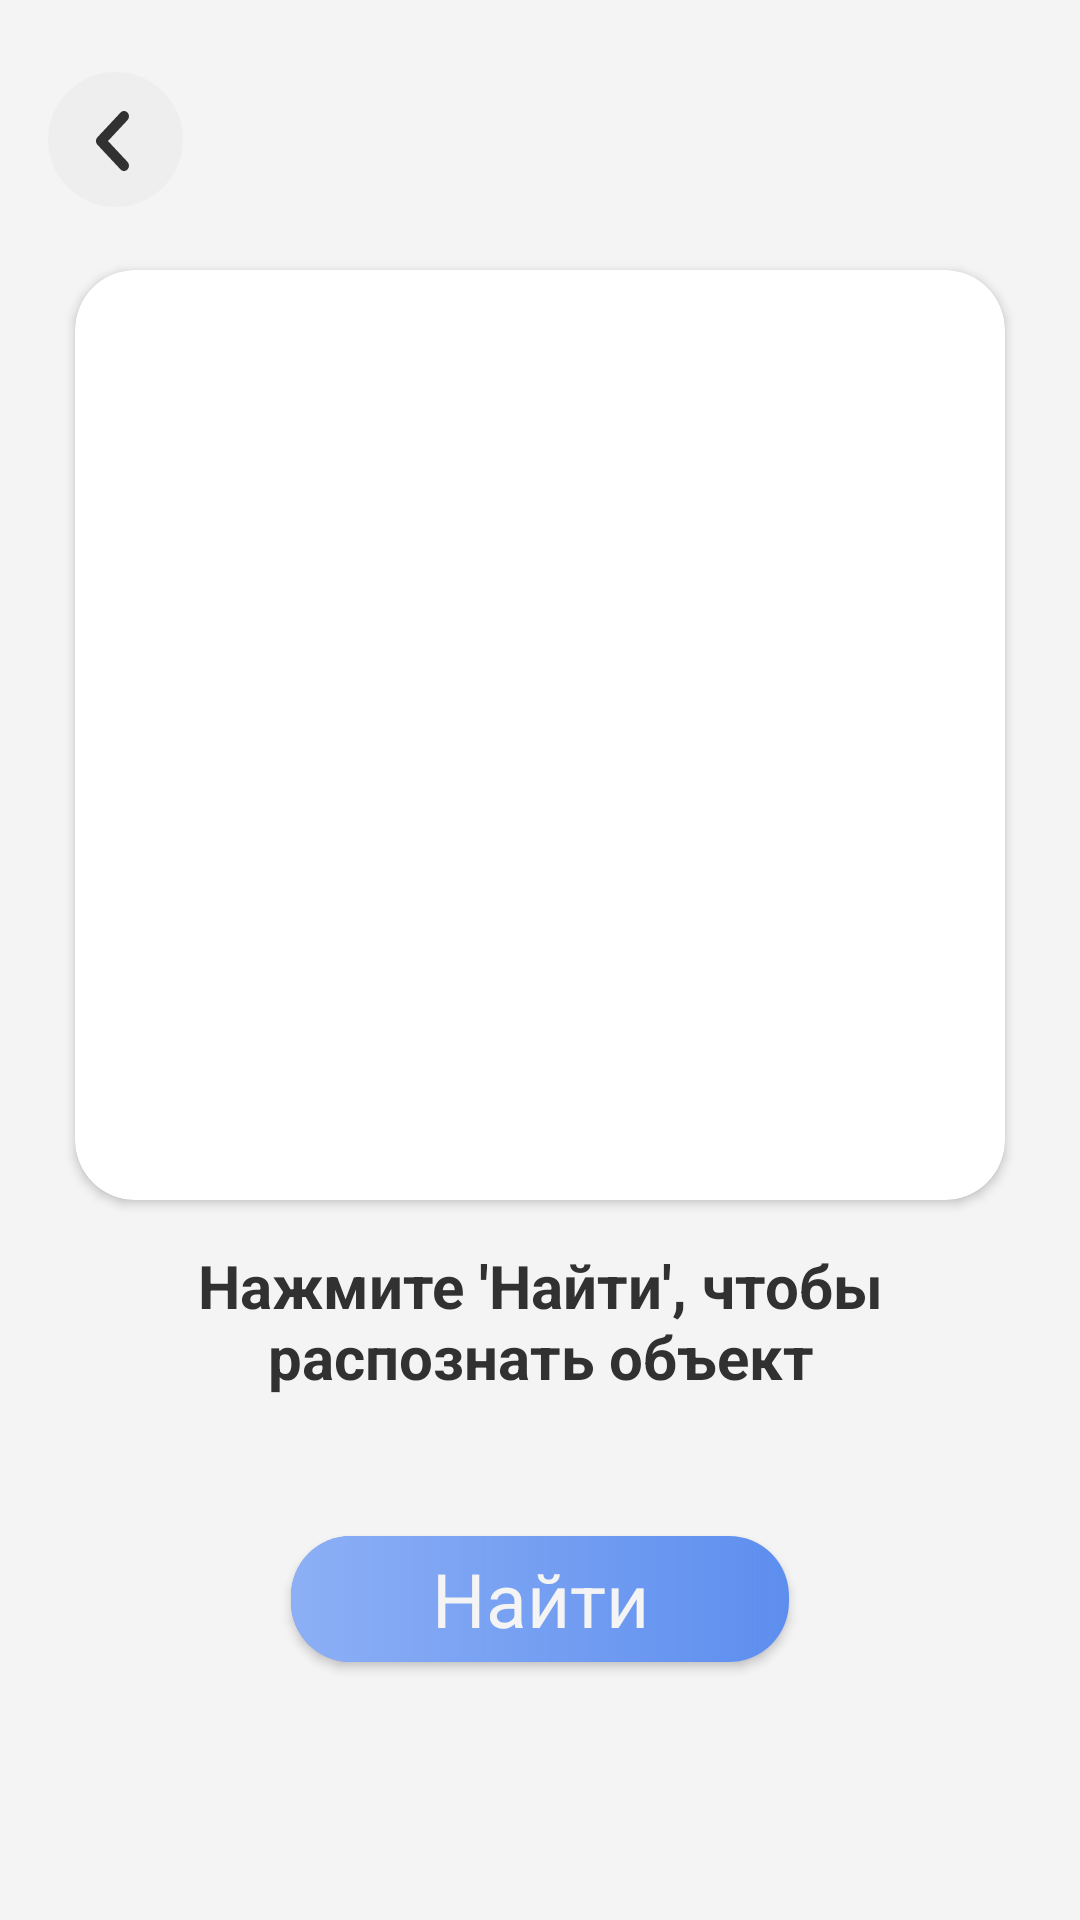

Icons on this 1080*1920 Android screen, each with the point to tap as [x,y]:
backbutton: [112,141]
